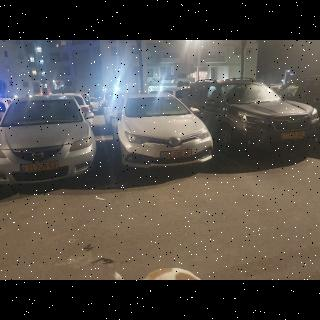LicensePlate: (25, 161, 58, 172), (164, 150, 191, 158), (283, 131, 305, 138)
